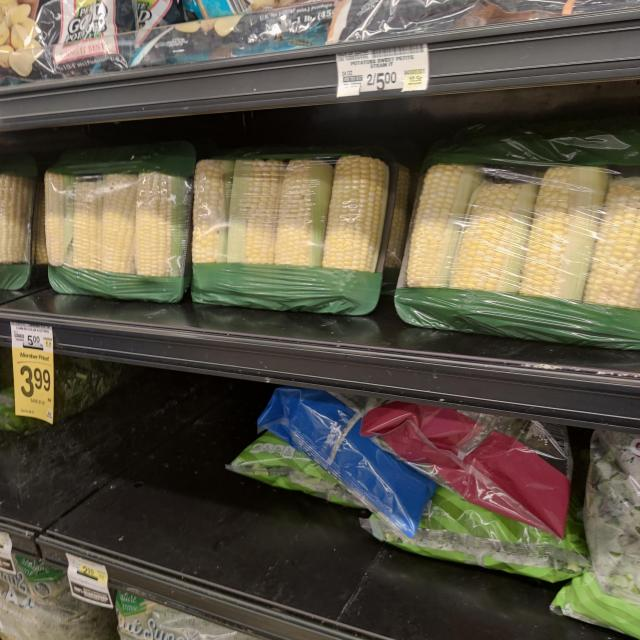Corn: (404, 141, 640, 341), (188, 152, 396, 314), (47, 166, 193, 301)
